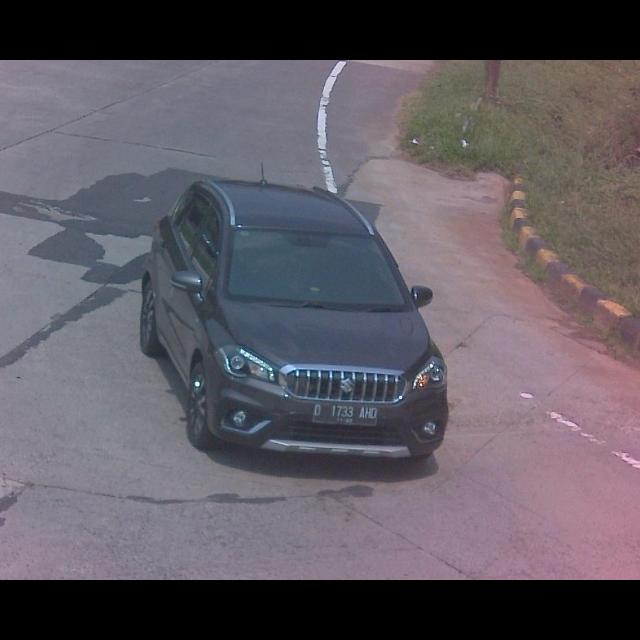plate: (312, 400, 382, 430)
